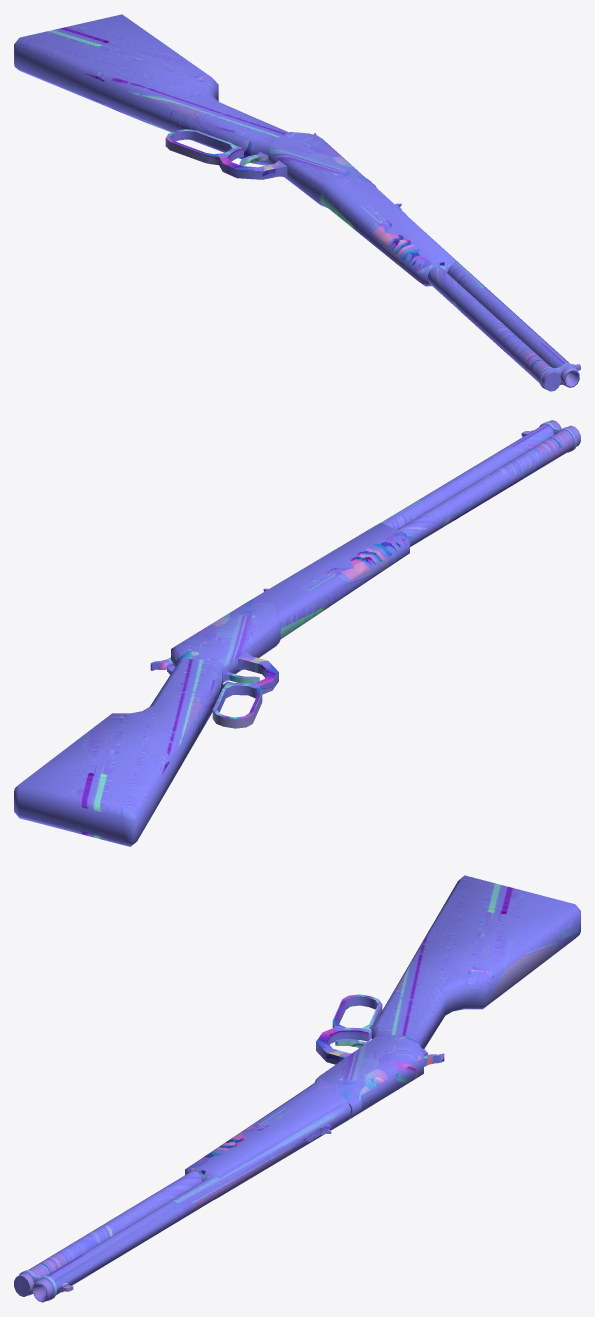
File: Rifle.glb
3 views of the same model, one above another, from view 1: azimuth 30°, elevation 25°; view 2: azimuth 150°, elevation 25°; view 3: azimuth 330°, elevation 25° (orthographic). The views are drawn at different scales.
Visible parts, largest first — view 1: Rifle; view 2: Rifle; view 3: Rifle.
Part boxes in pixels (left/top/right/bottom): Rifle: left=14, top=14, right=580, bottom=391; Rifle: left=14, top=420, right=580, bottom=846; Rifle: left=14, top=875, right=580, bottom=1302.
Bounding box in the file's own units: 2.15 × 0.4873 × 12.2.
Materials: 1 (1 with a texture image).
